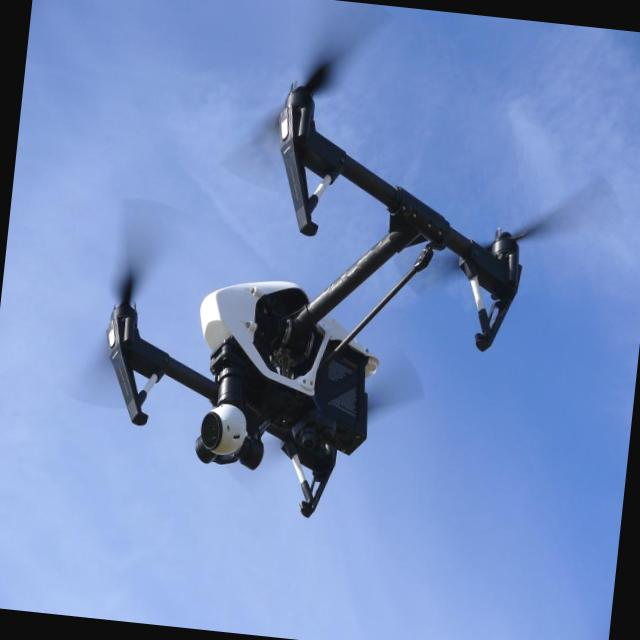drone: (88, 60, 540, 540)
